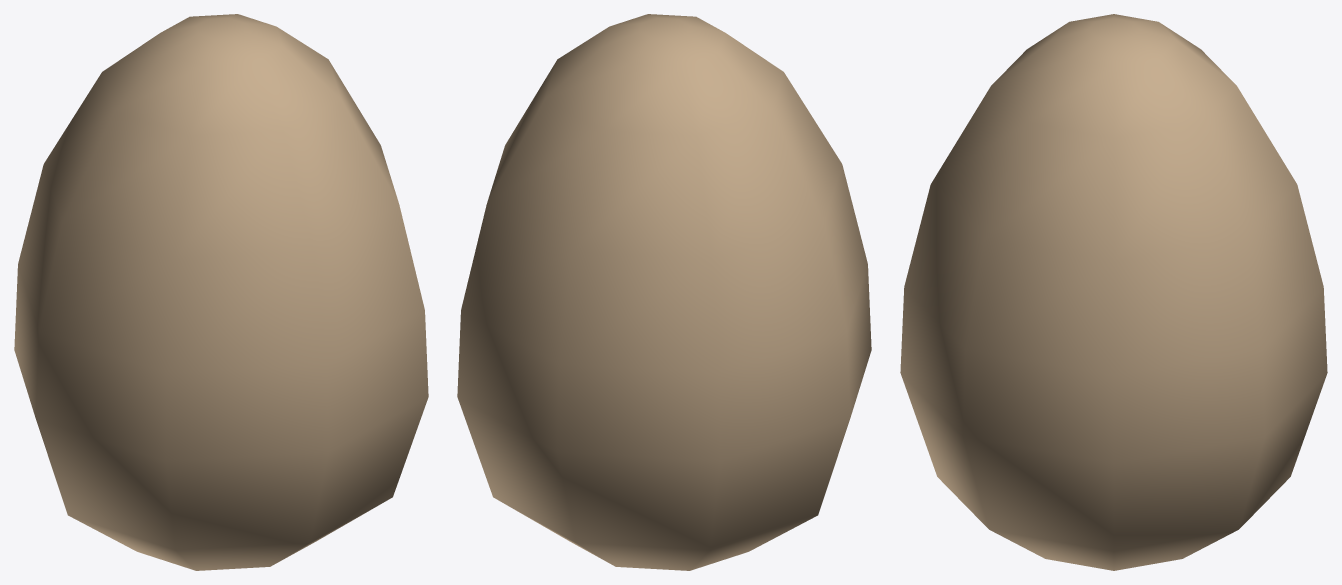
The model's file is Egg_01.fbx.
3 views of the same model, side by side, from view 1: azimuth 30°, elevation 25°; view 2: azimuth 150°, elevation 25°; view 3: azimuth 270°, elevation 25° (orthographic).
Parts seen in each view (by area): view 1: Egg_01; view 2: Egg_01; view 3: Egg_01.
Part boxes in pixels (x1=…): Egg_01: x1=14, y1=14, x2=428, y2=570; Egg_01: x1=457, y1=14, x2=871, y2=570; Egg_01: x1=900, y1=14, x2=1327, y2=570.
Bounding box in the file's own units: 0.0758 × 0.1014 × 0.0758.
